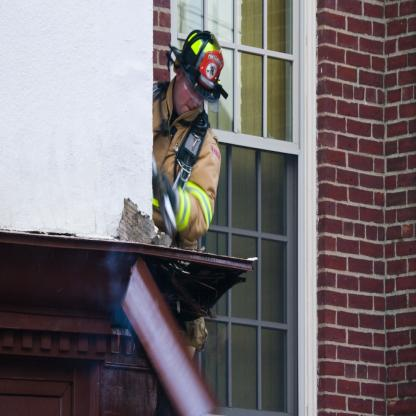Helmet: (171, 27, 228, 103)
